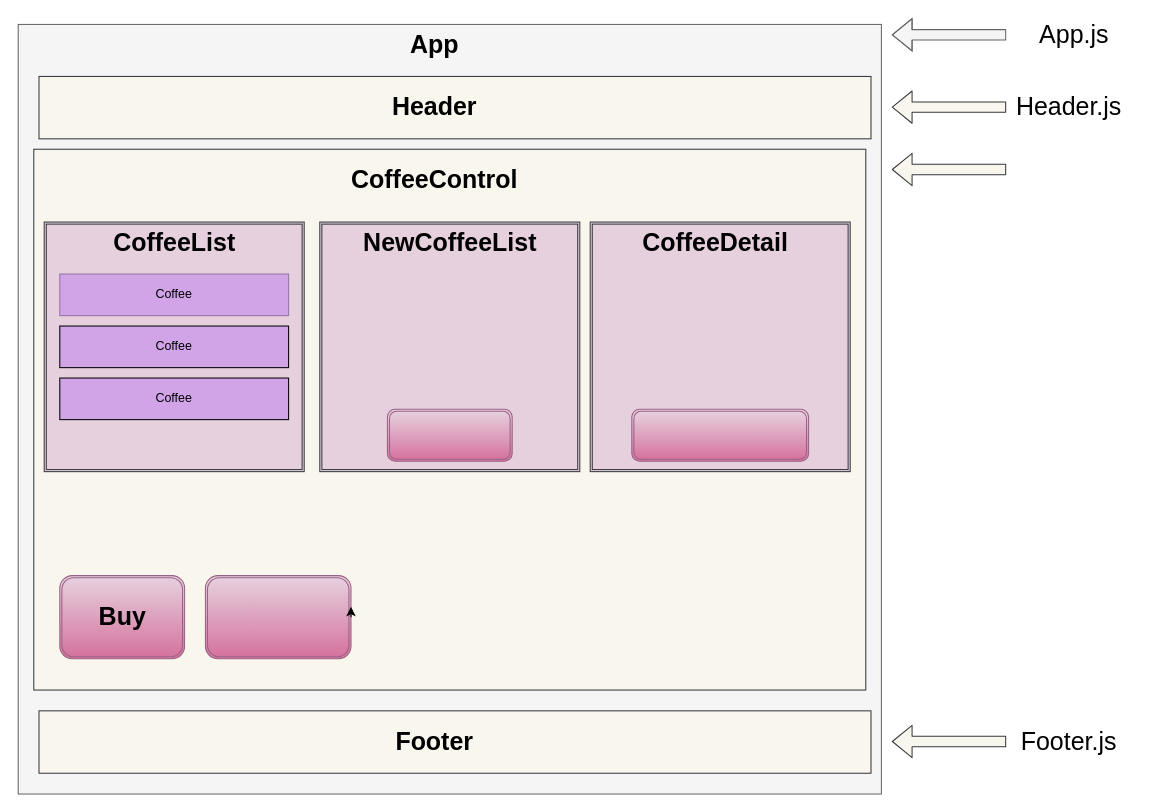
Some shapes in this 1149 by 812 pixel diagram are drawn without their labels. The centre of each missing label's shape, as x and y in pixels:
Add (Restock): (x=277, y=617)
Submit: (x=449, y=434)
Update/Delete: (x=720, y=434)
